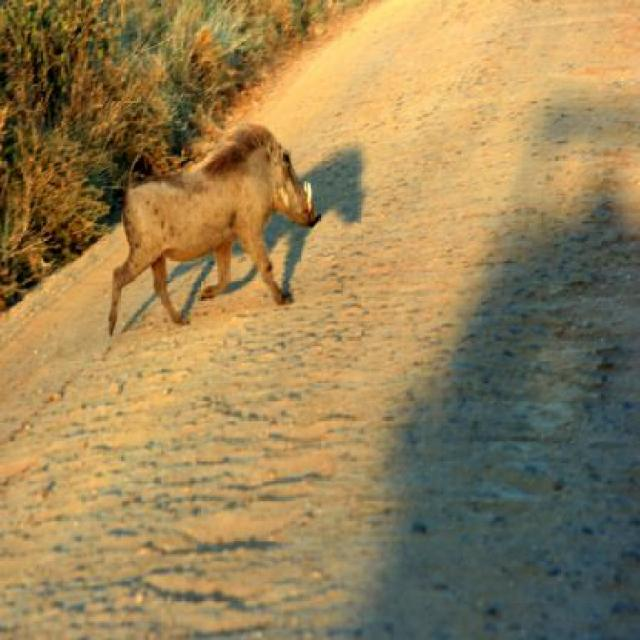pig: (106, 125, 322, 338)
